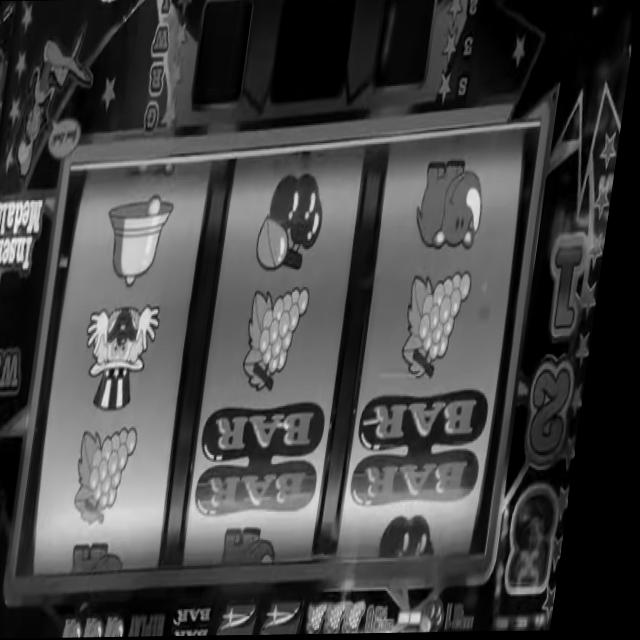bar: (201, 403, 342, 515), (363, 392, 501, 506), (188, 604, 232, 637)
cherry: (262, 171, 333, 274), (436, 600, 464, 634)
clown: (86, 307, 168, 416)
display: (27, 129, 549, 582)
elephant: (417, 150, 494, 250), (235, 526, 295, 567), (83, 540, 145, 578), (99, 615, 123, 638), (78, 616, 101, 638), (122, 612, 143, 636)
grape: (406, 271, 480, 382), (101, 189, 182, 288), (82, 424, 153, 530), (249, 289, 316, 394), (360, 598, 385, 634), (324, 599, 346, 635), (343, 599, 363, 633)
z: (235, 598, 276, 636), (277, 600, 322, 634)
